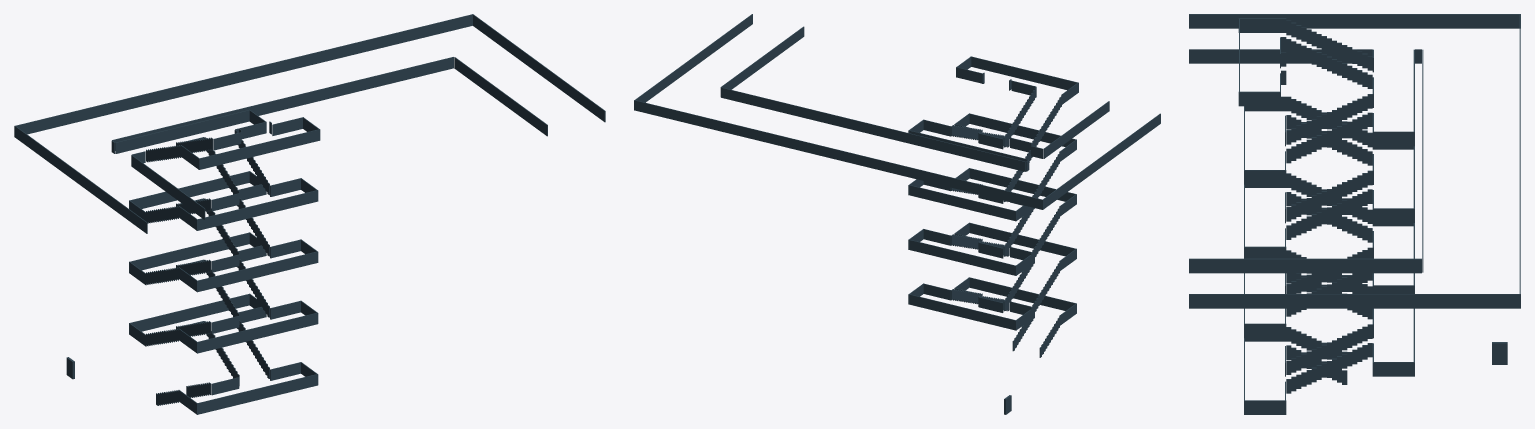
The model's file is v02-00-03-steel.glb.
The picture shows the model from 3 angles, left to right: view 1: azimuth 30°, elevation 25°; view 2: azimuth 150°, elevation 25°; view 3: azimuth 270°, elevation 25°; orthographic projection. The views are drawn at different scales.
Visible parts, largest first — view 1: v02-00-03-steel; view 2: v02-00-03-steel; view 3: v02-00-03-steel.
Boxes of the visible parts, <box> form: v02-00-03-steel: <box>14,14,605,414</box>; v02-00-03-steel: <box>634,14,1160,414</box>; v02-00-03-steel: <box>1189,14,1520,414</box>.
Bounding box in the file's own units: 47 × 28.38 × 23.5.
